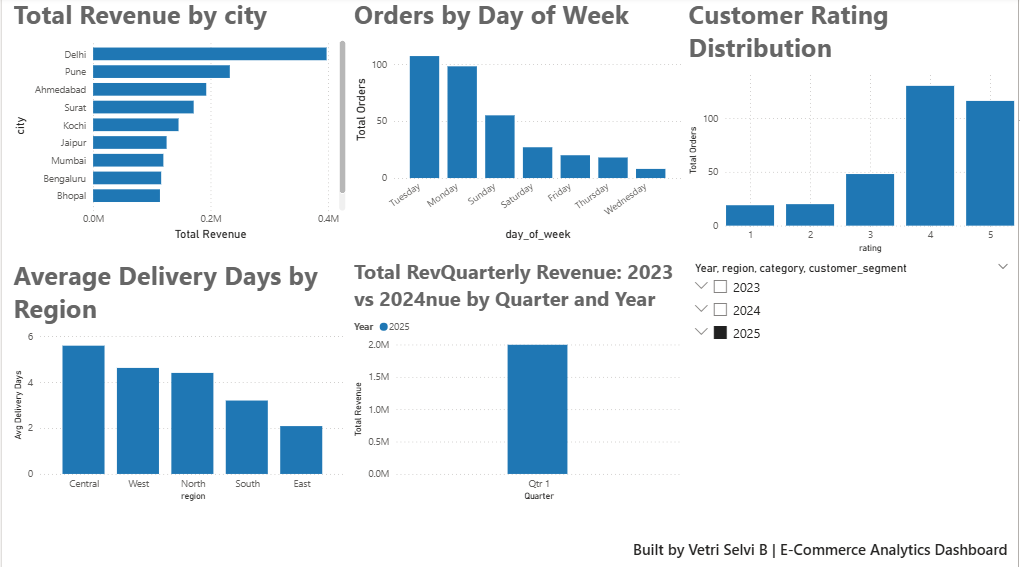

Layout of this report page (visuals, bound fields, positions):
{"tool":"powerbi","page":{"name":"Geographic & Operational Insights","canvas":[1280,720],"ordinal":2},"visuals":[{"type":"barChart","fields":{"Category":["ecommerce_sales.city"],"Y":["ecommerce_sales.Total Revenue"]},"box":[10,0,428,312],"z":0},{"type":"clusteredColumnChart","title":"Average Delivery Days by Region","fields":{"Category":["ecommerce_sales.region"],"Y":["ecommerce_sales.Avg Delivery Days"]},"box":[10,328,428,312],"z":1000},{"type":"columnChart","title":"Orders by Day of Week","fields":{"Category":["ecommerce_sales.day_of_week"],"Y":["ecommerce_sales.Total Orders"]},"box":[438,0,422,312],"z":2000},{"type":"clusteredColumnChart","title":"Total RevQuarterly Revenue: 2023 vs 2024nue by Quarter and Year","fields":{"Y":["ecommerce_sales.Total Revenue"],"Category":["ecommerce_sales.delivery_date.Variation.Date Hierarchy.Quarter"],"Series":["ecommerce_sales.delivery_date.Variation.Date Hierarchy.Year"]},"box":[438,328,422,312],"z":3000},{"type":"columnChart","title":"Customer Rating Distribution","fields":{"Category":["ecommerce_sales.rating"],"Y":["ecommerce_sales.Total Orders"]},"box":[860,0,420,328],"z":4000},{"type":"slicer","fields":{"Values":["ecommerce_sales.delivery_date.Variation.Date Hierarchy.Year","ecommerce_sales.region","ecommerce_sales.category","ecommerce_sales.customer_segment"]},"box":[860,328,420,312],"z":4001},{"type":"textbox","box":[790,678,490,42],"z":4002}]}

Visuals, with their boxes in screenshot pixels (x1, y1, x2, y2), scaled from the page's 1280x720 canvas onto the 1020x567 screenshot:
barChart - ecommerce_sales.city x ecommerce_sales.Total Revenue: (8, 0, 349, 246)
"Average Delivery Days by Region" clusteredColumnChart: (8, 258, 349, 504)
"Orders by Day of Week" columnChart: (349, 0, 685, 246)
"Total RevQuarterly Revenue: 2023 vs 2024nue by Quarter and Year" clusteredColumnChart: (349, 258, 685, 504)
"Customer Rating Distribution" columnChart: (685, 0, 1019, 258)
slicer - ecommerce_sales.delivery_date.Variation.Date Hierarchy.Year x ecommerce_sales.region: (685, 258, 1019, 504)
textbox: (630, 534, 1019, 566)
